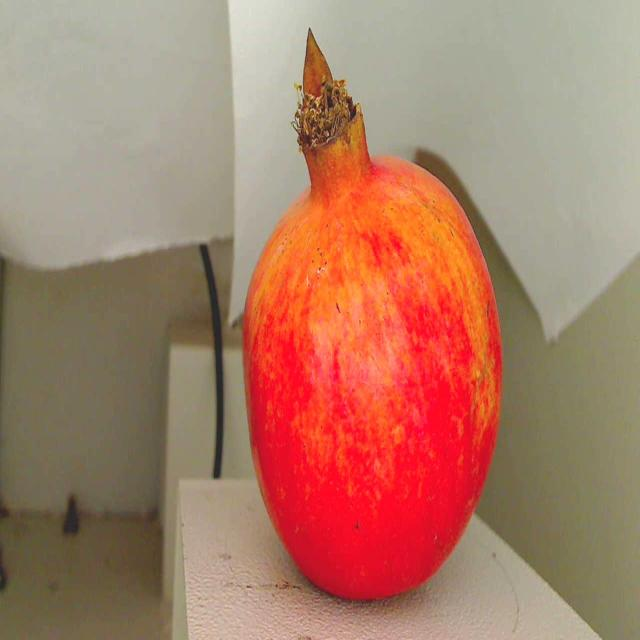pomegranate: (233, 31, 514, 612)
